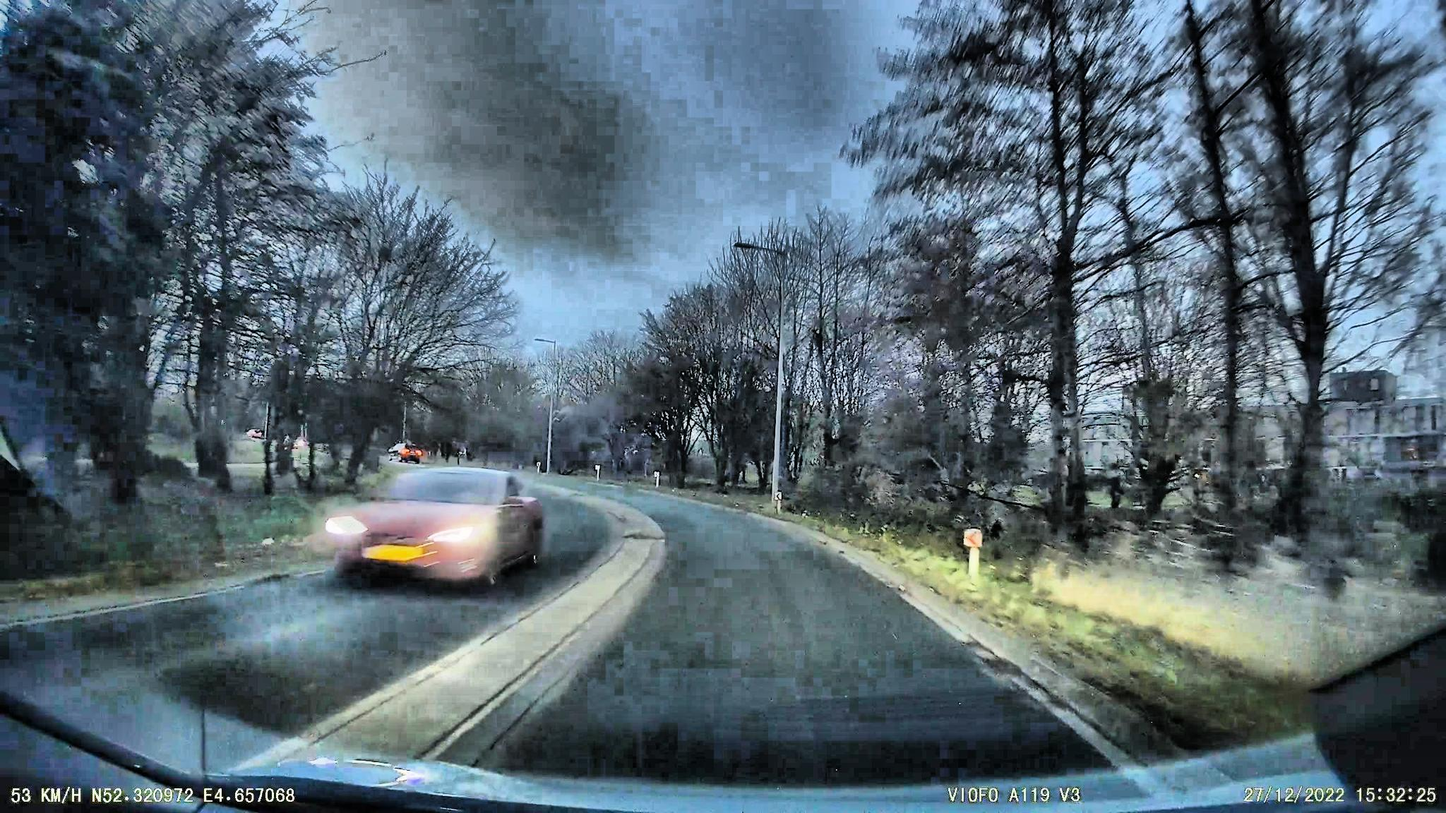Roads: (0, 475, 1143, 813)
